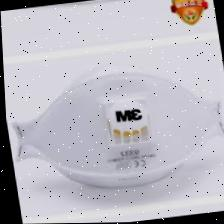mask: (2, 50, 224, 205)
